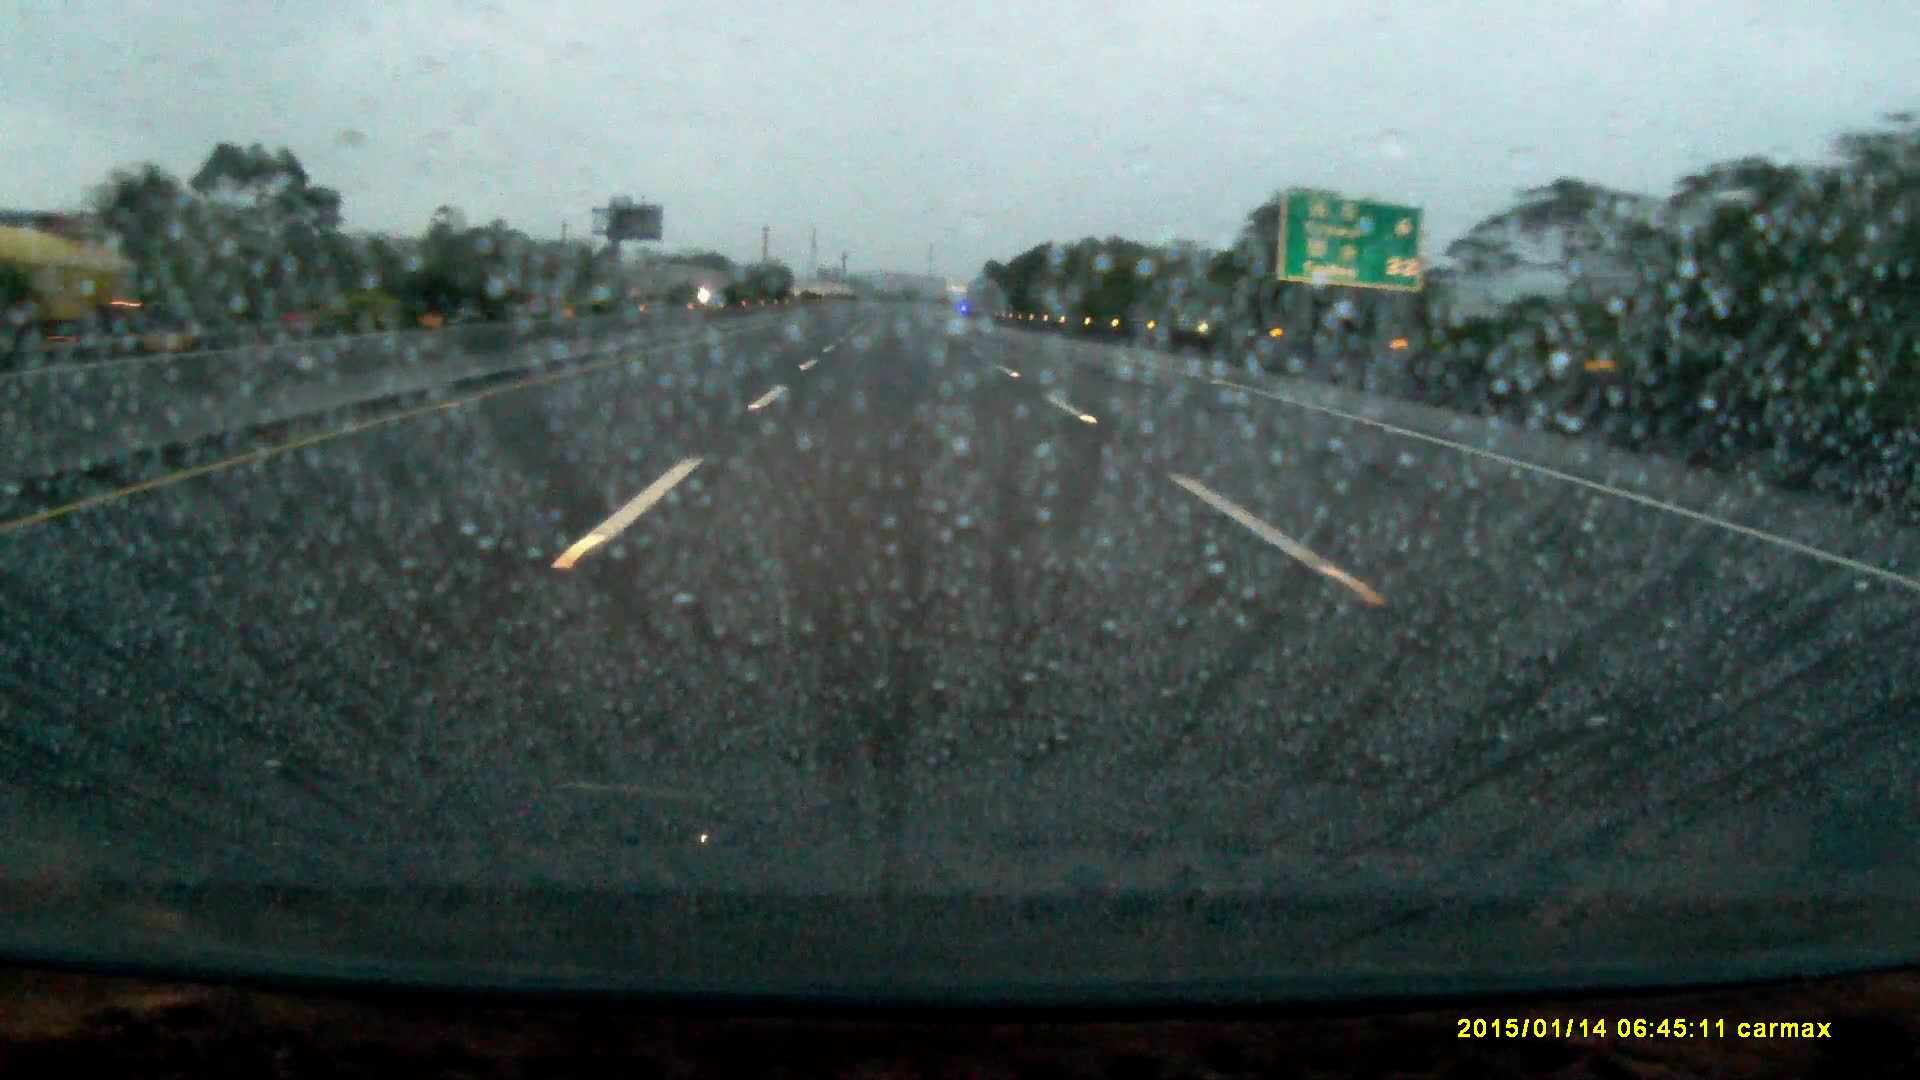vehicle: (3, 232, 120, 347)
